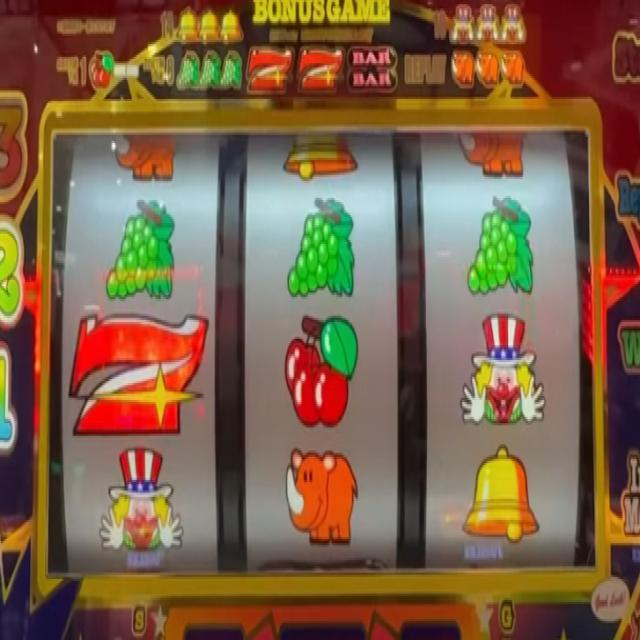bar: (347, 45, 398, 93)
bell: (466, 446, 537, 550), (282, 135, 359, 181), (178, 7, 198, 48), (220, 6, 241, 43), (199, 7, 218, 44)
cherry: (284, 314, 360, 428), (90, 48, 112, 88)
clown: (459, 304, 544, 426), (102, 458, 184, 554), (452, 0, 475, 48), (498, 7, 523, 48), (478, 2, 497, 47)
display: (49, 125, 596, 573)
elephant: (285, 448, 362, 544), (457, 130, 527, 182), (111, 134, 178, 185), (450, 50, 473, 90), (476, 56, 499, 86), (501, 53, 523, 83)
grape: (287, 193, 356, 297), (467, 192, 533, 298), (107, 196, 174, 300), (176, 52, 200, 90), (219, 48, 241, 88), (201, 48, 219, 90)
z: (68, 311, 210, 431), (298, 44, 343, 94), (248, 45, 291, 92)
